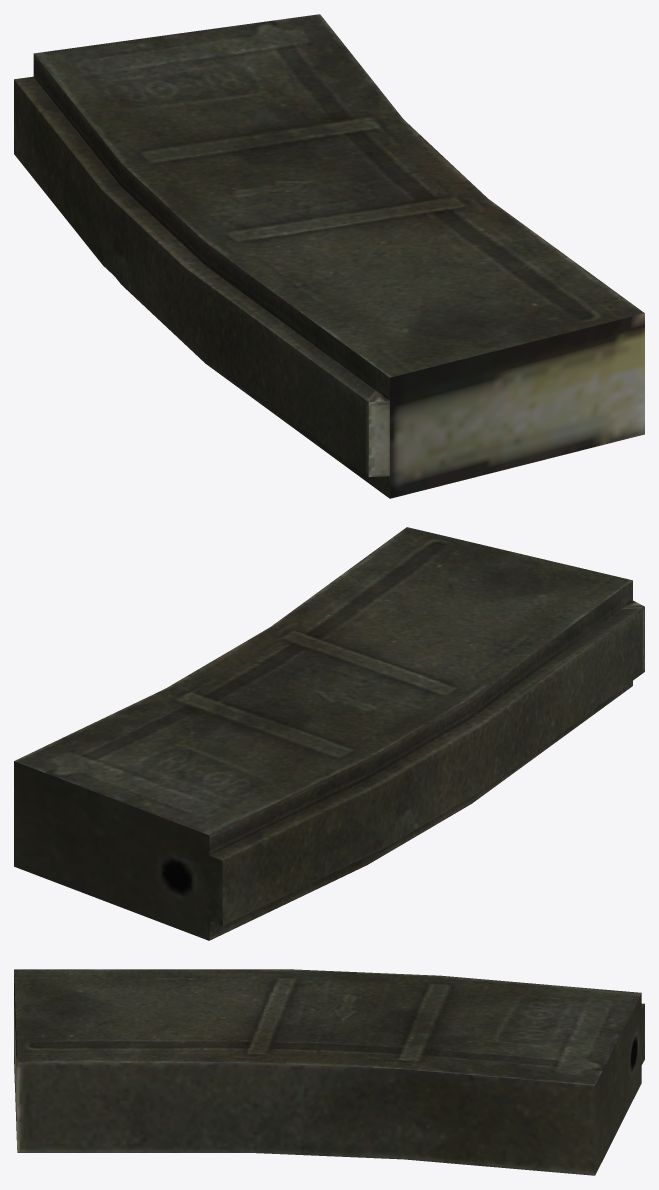
File: t6_attach_mag_sig556_world_LOD0.obj
The picture shows the model from 3 angles, top to bottom: view 1: azimuth 30°, elevation 25°; view 2: azimuth 150°, elevation 25°; view 3: azimuth 270°, elevation 25°; orthographic projection. The views are drawn at different scales.
Visible parts, largest first — view 1: mtl_t6_wpn_ar_sig556_camo1; view 2: mtl_t6_wpn_ar_sig556_camo1; view 3: mtl_t6_wpn_ar_sig556_camo1.
Boxes of the visible parts, x1,y1,x2,y2 form: mtl_t6_wpn_ar_sig556_camo1: (14, 14, 644, 498); mtl_t6_wpn_ar_sig556_camo1: (14, 527, 644, 940); mtl_t6_wpn_ar_sig556_camo1: (14, 969, 644, 1175).
Size of the model in its own units: 8.69 by 2.98 by 18.87.
